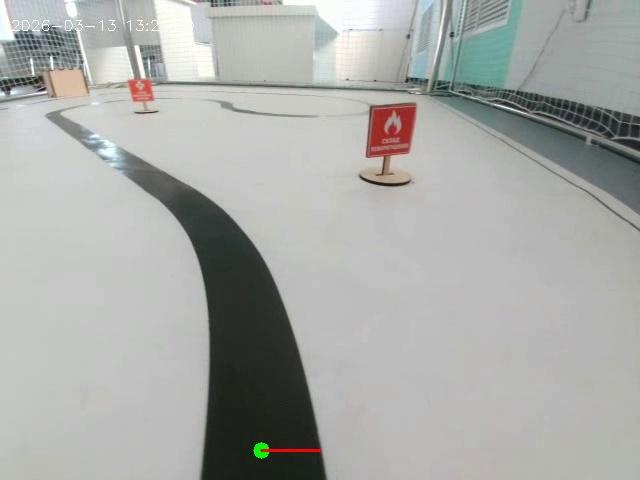fire: (349, 94, 428, 186)
medical: (119, 66, 160, 125)
